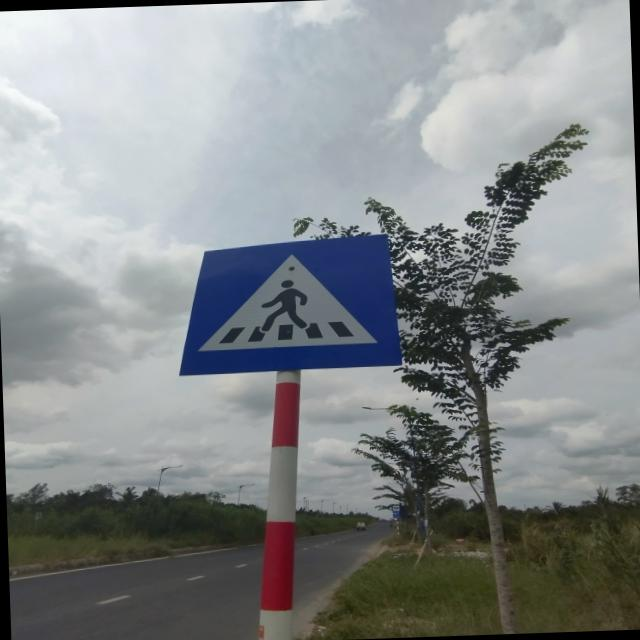Giao_Nhau_Duong_Uu_Tien: (174, 232, 400, 376)
